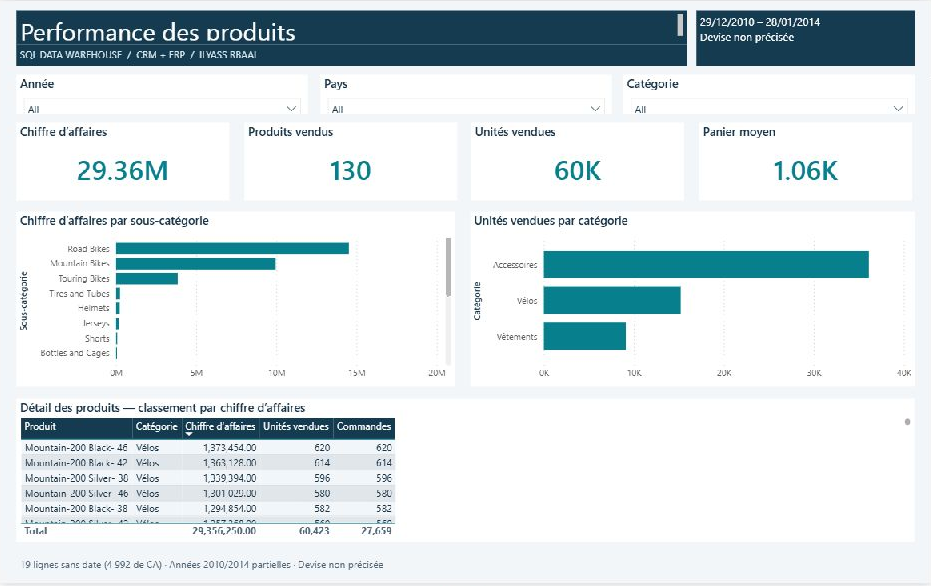

Layout of this report page (visuals, bound fields, positions):
{"tool":"powerbi","page":{"name":"02 · Produits","canvas":[1280,800],"ordinal":1},"visuals":[{"type":"textbox","box":[24,14,920,46],"z":7},{"type":"textbox","box":[24,61,920,29],"z":8},{"type":"textbox","box":[956,14,300,76],"z":9},{"type":"slicer","title":"Année","fields":{"Values":["Calendrier.Année"]},"box":[24,102,400,54],"z":10},{"type":"slicer","title":"Pays","fields":{"Values":["Clients.Pays"]},"box":[440,102,400,54],"z":11},{"type":"slicer","title":"Catégorie","fields":{"Values":["Produits.Catégorie"]},"box":[856,102,400,54],"z":12},{"type":"textbox","box":[24,759,1232,28],"z":13},{"type":"card","title":"Chiffre d’affaires","fields":{"Values":["Ventes.Chiffre d’affaires"]},"box":[24,168,292,106],"z":29},{"type":"card","title":"Produits vendus","fields":{"Values":["Ventes.Produits vendus"]},"box":[336,168,292,106],"z":30},{"type":"card","title":"Unités vendues","fields":{"Values":["Ventes.Unités vendues"]},"box":[648,168,292,106],"z":31},{"type":"card","title":"Panier moyen","fields":{"Values":["Ventes.Panier moyen"]},"box":[960,168,292,106],"z":32},{"type":"barChart","title":"Chiffre d’affaires par sous-catégorie","fields":{"Category":["Produits.Sous-catégorie"],"Y":["Ventes.Chiffre d’affaires"]},"box":[24,290,602,240],"z":33},{"type":"barChart","title":"Unités vendues par catégorie","fields":{"Category":["Produits.Catégorie"],"Y":["Ventes.Unités vendues"]},"box":[646,290,610,240],"z":34},{"type":"tableEx","title":"Détail des produits — classement par chiffre d’affaires","fields":{"Values":["Produits.Produit","Produits.Catégorie","Ventes.Chiffre d’affaires","Ventes.Unités vendues","Ventes.Commandes"]},"box":[24,546,1232,196],"z":35}]}

Visuals, with their boxes in screenshot pixels (x1, y1, x2, y2), scaled from the page's 1280x800 canvas onto the 931x586 screenshot:
textbox: [left=17, top=10, right=687, bottom=44]
textbox: [left=17, top=45, right=687, bottom=66]
textbox: [left=695, top=10, right=914, bottom=66]
"Année" slicer: [left=17, top=75, right=308, bottom=114]
"Pays" slicer: [left=320, top=75, right=611, bottom=114]
"Catégorie" slicer: [left=623, top=75, right=914, bottom=114]
textbox: [left=17, top=556, right=914, bottom=576]
"Chiffre d’affaires" card: [left=17, top=123, right=230, bottom=201]
"Produits vendus" card: [left=244, top=123, right=457, bottom=201]
"Unités vendues" card: [left=471, top=123, right=684, bottom=201]
"Panier moyen" card: [left=698, top=123, right=911, bottom=201]
"Chiffre d’affaires par sous-catégorie" barChart: [left=17, top=212, right=455, bottom=388]
"Unités vendues par catégorie" barChart: [left=470, top=212, right=914, bottom=388]
"Détail des produits — classement par chiffre d’affaires" tableEx: [left=17, top=400, right=914, bottom=544]
